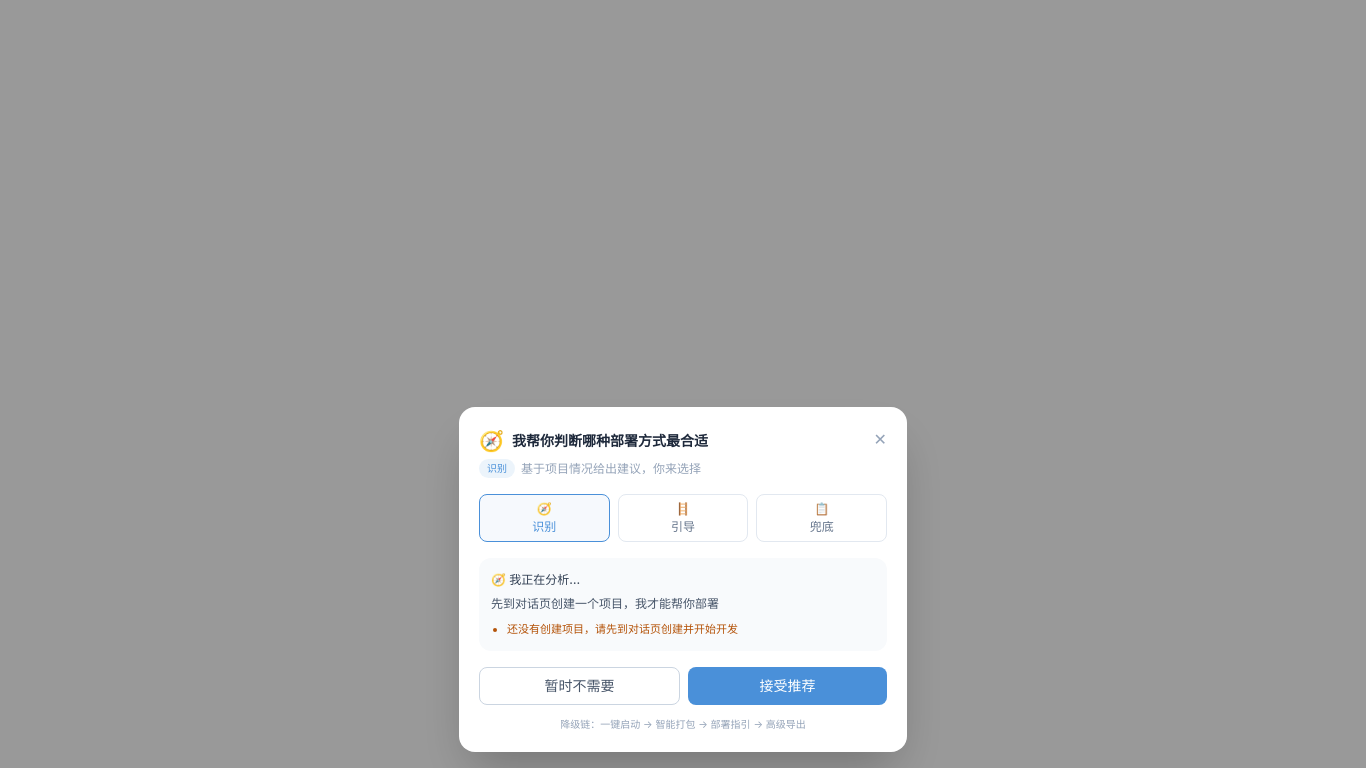
Test: DeploymentAssistant 接管边界（v0.1.02 P0-4） › UT-DA-001 fallback 文案改为「我把一切准备好了」，不再写「我来接管」
The width and height of the screenshot is (1366, 768).
Click the button "接受推荐".
click(788, 686)  # box x1=688 y1=667 x2=887 y2=705
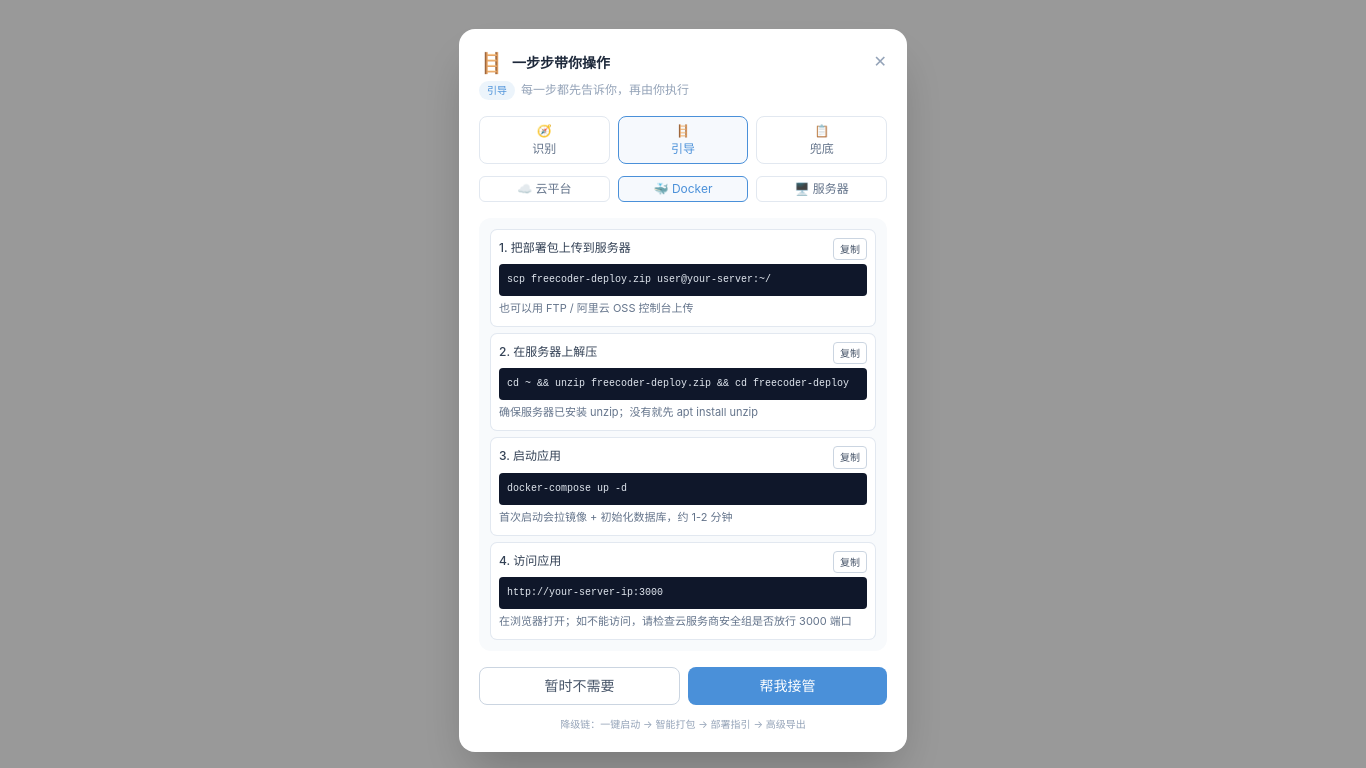
Click the button "帮我接管".
click(788, 686)  # box x1=688 y1=667 x2=887 y2=705
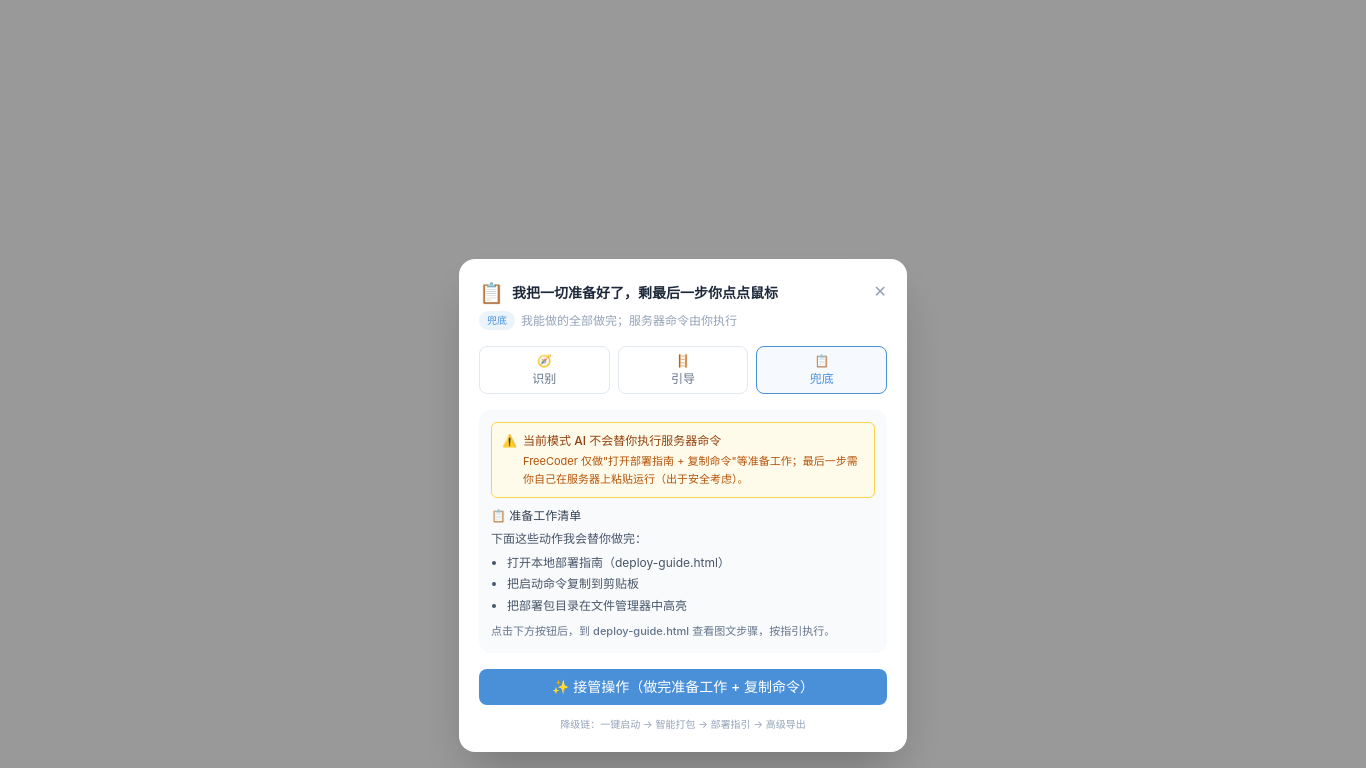
Check: the button "✨ 接管操作（做完准备工作 + 复制命令）" is shown, box x1=479 y1=669 x2=887 y2=705
Check: the text "我把一切准备好了，剩最后一步你点点鼠标" is shown, box x1=512 y1=283 x2=778 y2=303
